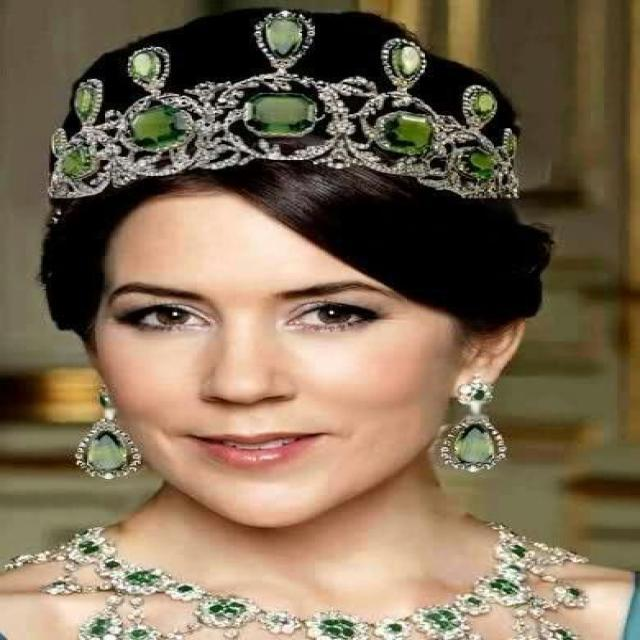Earring: (64, 385, 148, 493), (436, 361, 506, 479)
